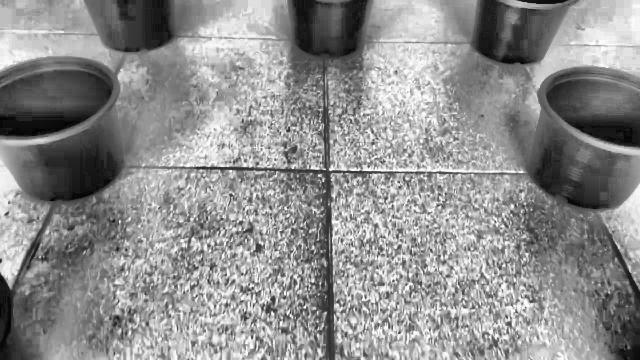pot: (0, 56, 126, 203), (526, 67, 640, 212)
